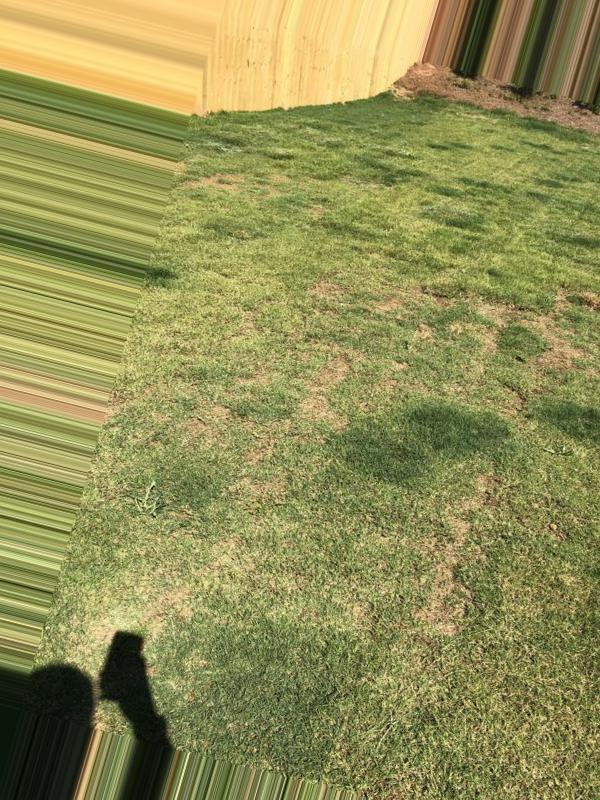patch: (148, 406, 352, 601), (350, 276, 558, 427), (211, 161, 311, 242)
